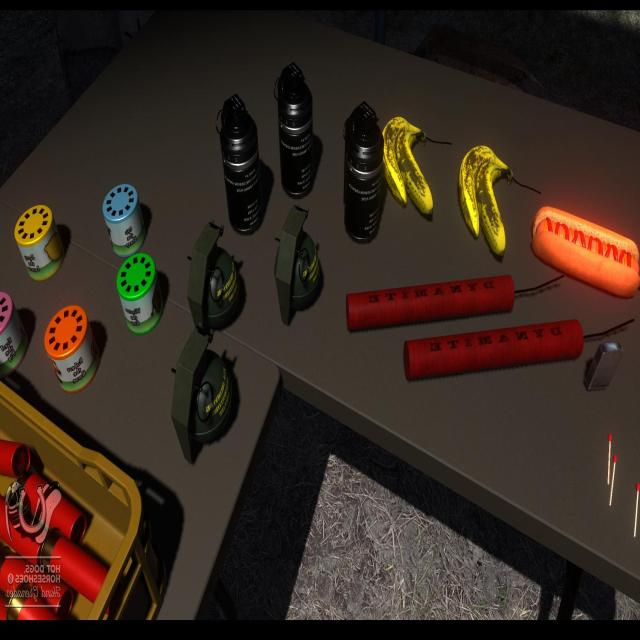grenade: (175, 326, 238, 466), (187, 216, 244, 338), (342, 96, 387, 247), (220, 91, 264, 235), (275, 205, 323, 323), (277, 60, 317, 198)
